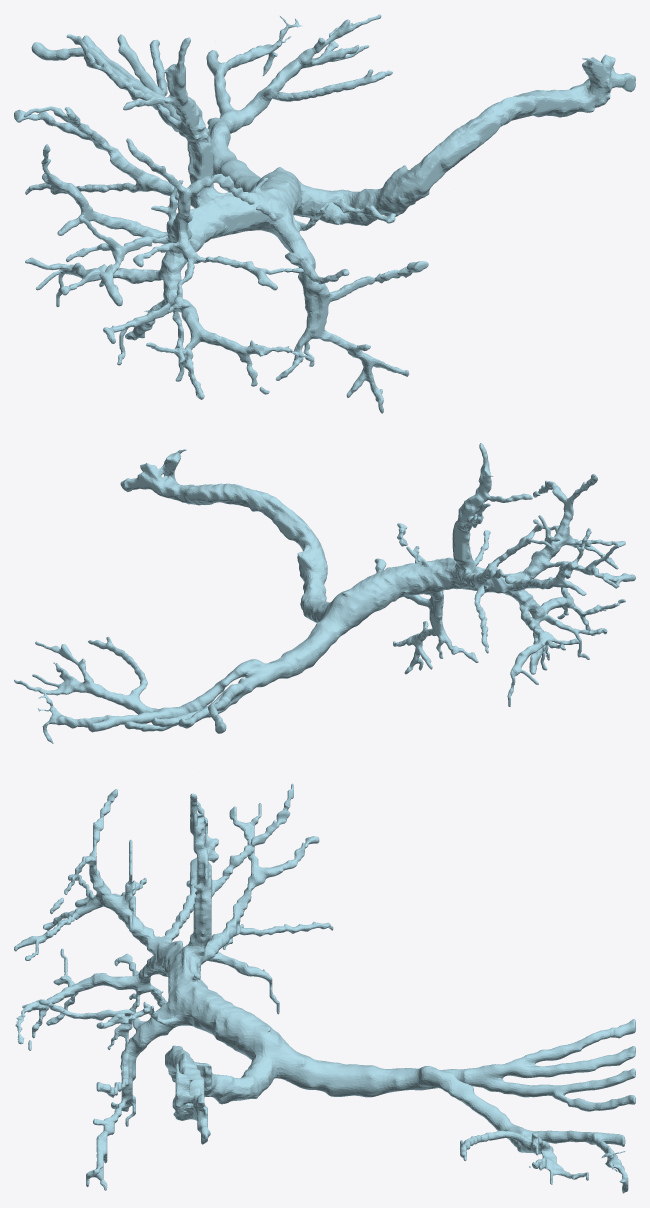
File: portalvein.obj
3 renders of one model, top to bottom at view 1: azimuth 30°, elevation 25°; view 2: azimuth 150°, elevation 25°; view 3: azimuth 270°, elevation 25°, orthographic. The views are drawn at different scales.
Parts seen in each view (by area): view 1: grp1; view 2: grp1; view 3: grp1.
Boxes of the visible parts, x1,y1,x2,y2 form: grp1: (14, 14, 635, 413); grp1: (14, 443, 635, 743); grp1: (14, 783, 635, 1193).
Bounding box in the file's own units: 220 × 129 × 216.
